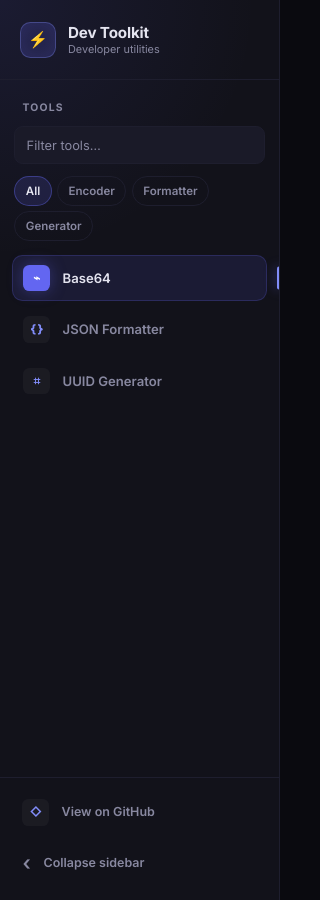
Test case: Sidebar search input › clears the query and restores the full list on Escape while focused
The width and height of the screenshot is (320, 900).
Type "json" into the search field labelled "Filter tools".
click(140, 145); type("json")  # box 14,126 -> 265,164
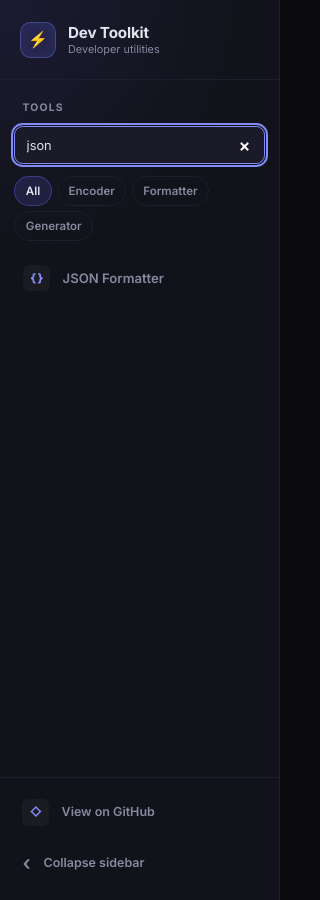
Result: the button "Base64" is gone
Press Escape in the search field named "Filter tools", box 14,126 -> 265,164
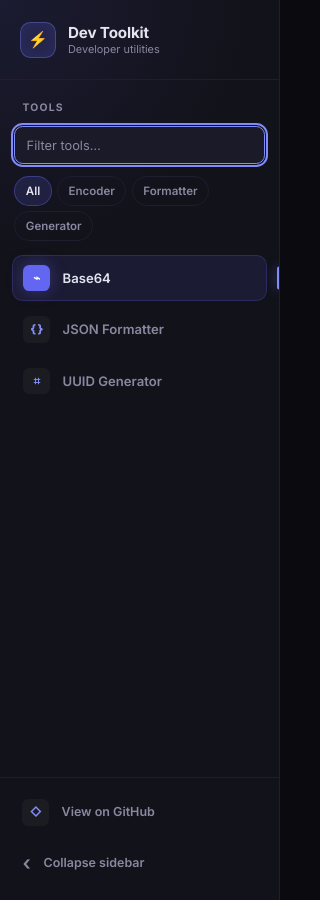
Expected: the button "{ } JSON Formatter" is shown, 12,307 -> 267,353
Result: the search field labelled "Filter tools" is empty at 14,126 -> 265,164
Result: the button "⌁ Base64" is shown at 12,255 -> 267,301
